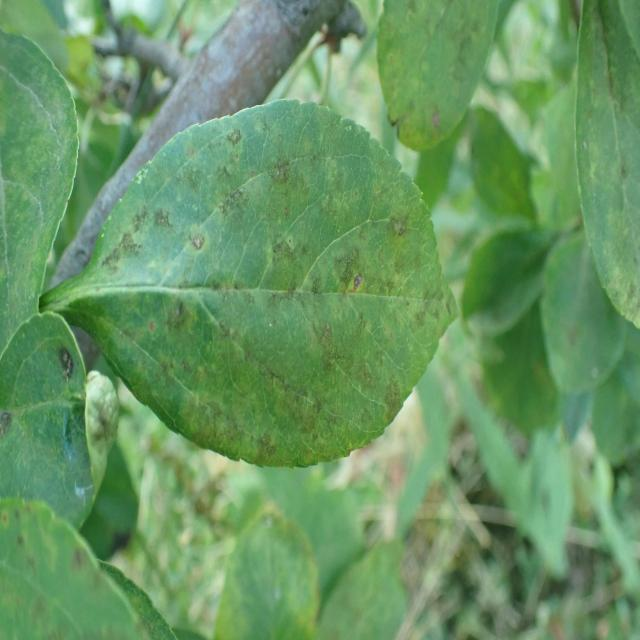scab: (87, 128, 436, 474), (554, 0, 640, 407), (0, 476, 136, 640), (366, 0, 491, 173), (229, 578, 235, 578)
